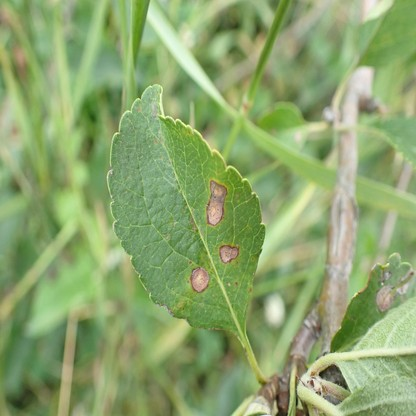frogeye_leaf_spot: (376, 270, 413, 312), (208, 181, 227, 225), (191, 267, 209, 292), (218, 244, 240, 263)
